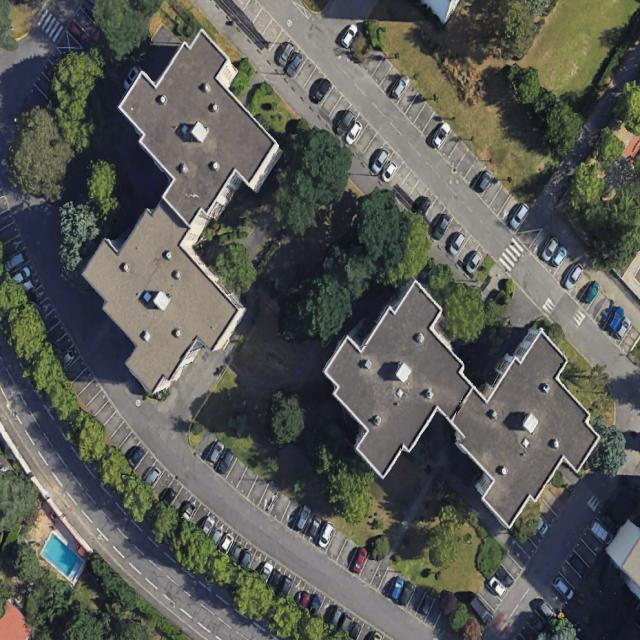immeuble: (295, 236, 627, 571), (58, 15, 303, 408)
